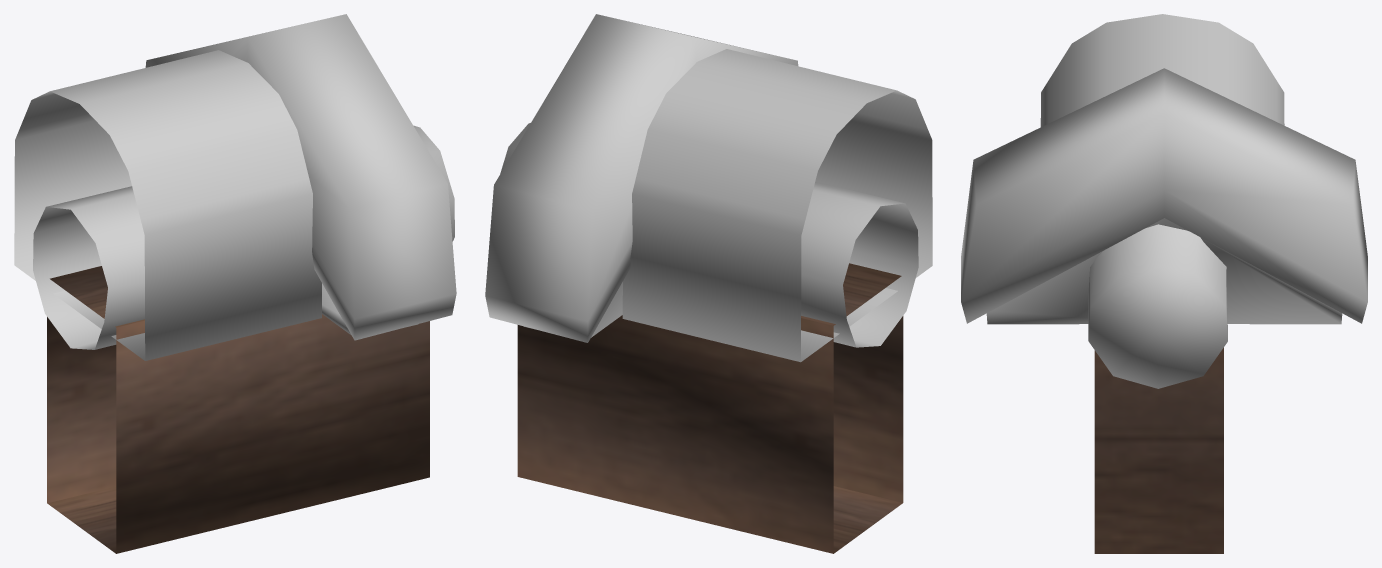
File: onikawara_a3.fbx
The picture shows the model from 3 angles, left to right: view 1: azimuth 30°, elevation 25°; view 2: azimuth 150°, elevation 25°; view 3: azimuth 270°, elevation 25°; orthographic projection. The views are drawn at different scales.
Parts seen in each view (by area): view 1: onikawara_a3; view 2: onikawara_a3; view 3: onikawara_a3.
Boxes of the visible parts, <box> form: onikawara_a3: <box>14,14,456,553</box>; onikawara_a3: <box>485,14,932,553</box>; onikawara_a3: <box>961,14,1367,553</box>.
Size of the model in its own units: 33.46 by 40.72 by 35.78.
